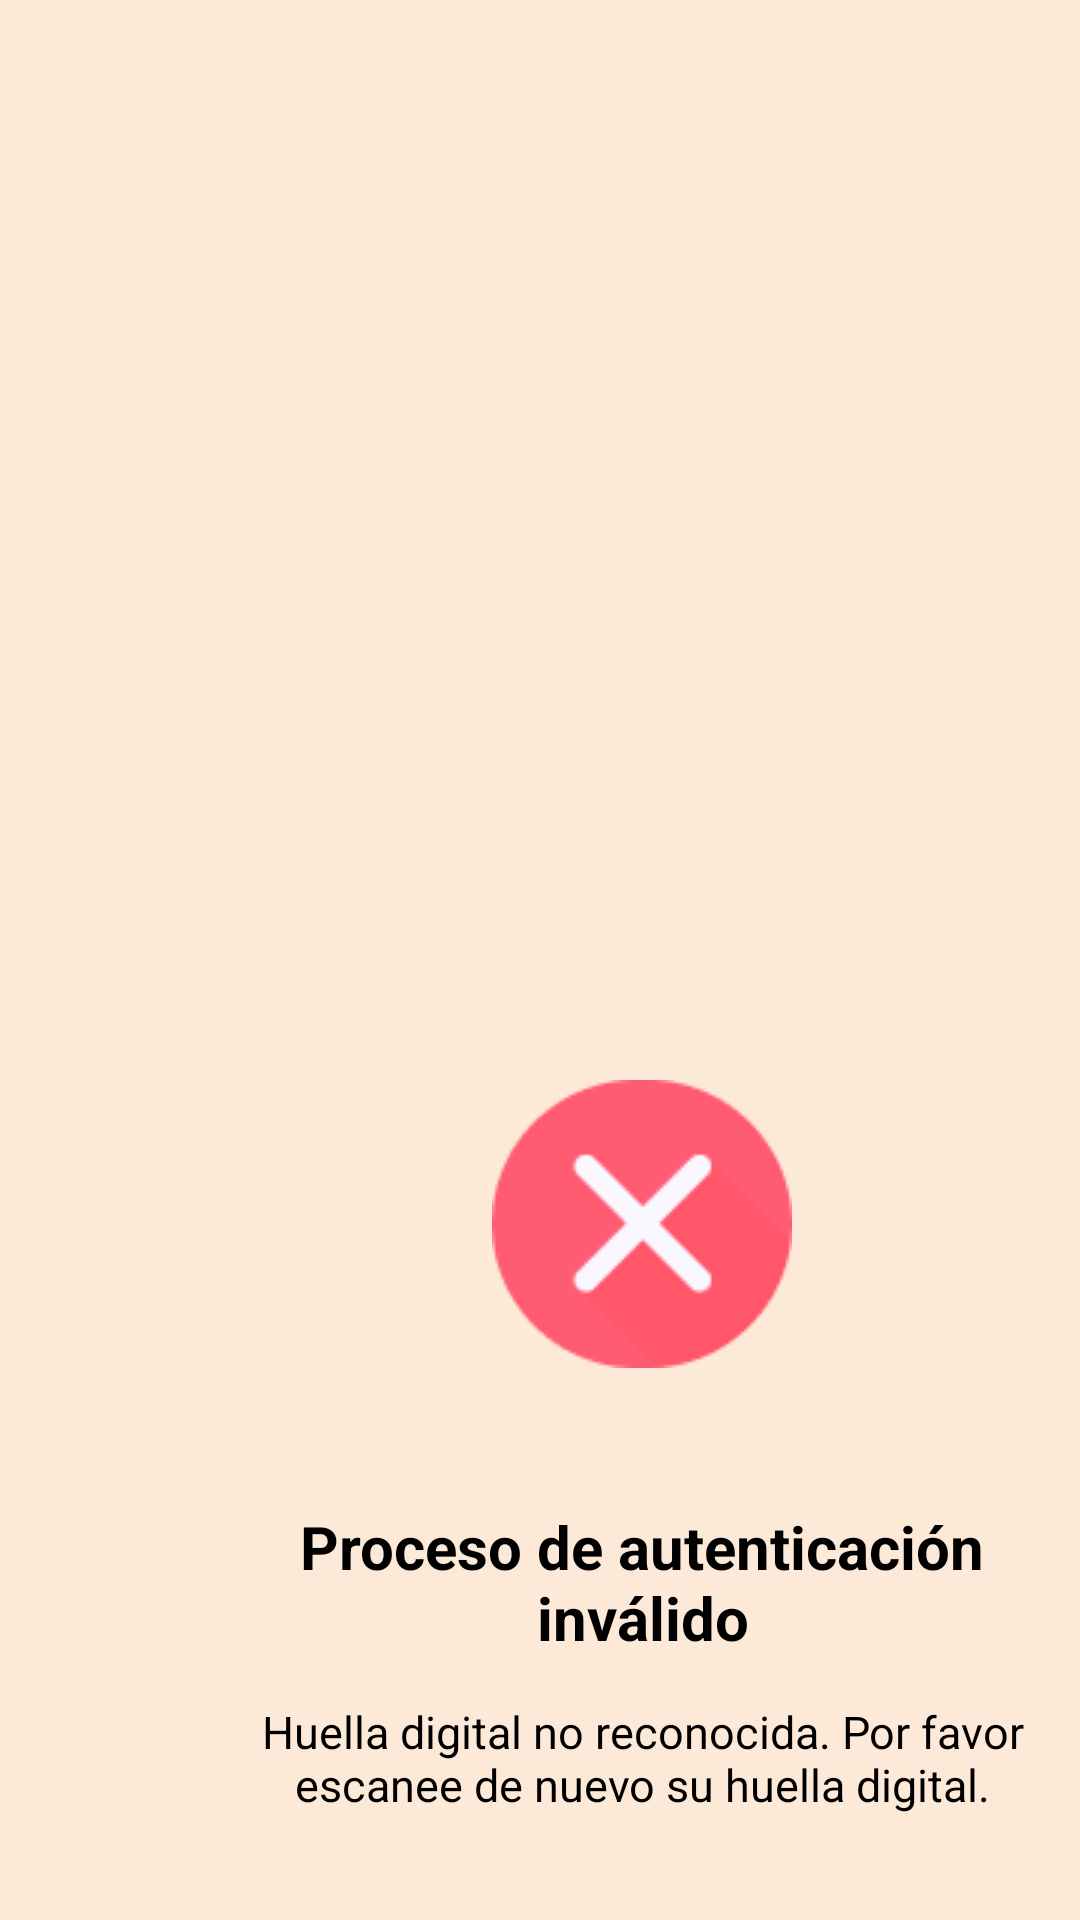

Screen size 1080px x 1920px. Icon name, then its center in pixels as point (x, y):
botonerrado: point (642, 1224)
